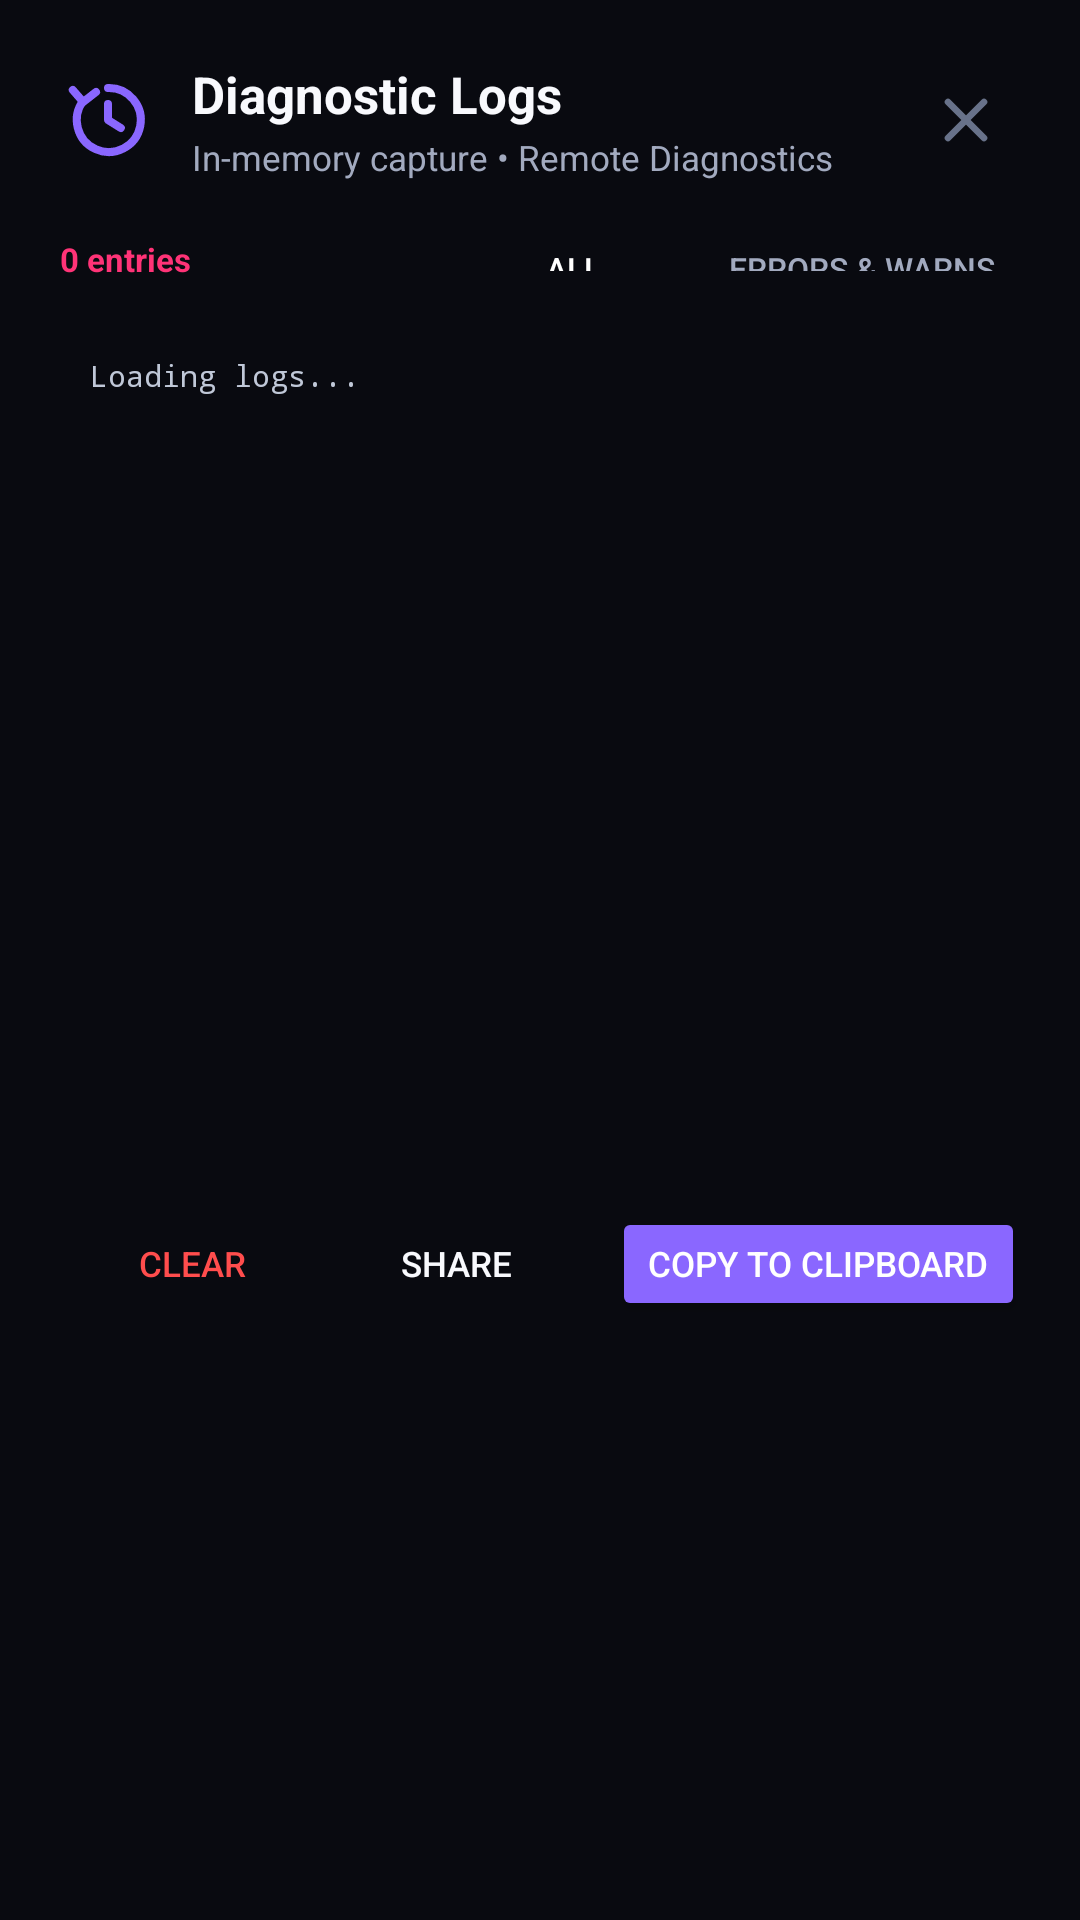

Where to tap for icons on this 1080px x 1920px app screen, as (x=x, y=y):
Close: (x=966, y=120)
